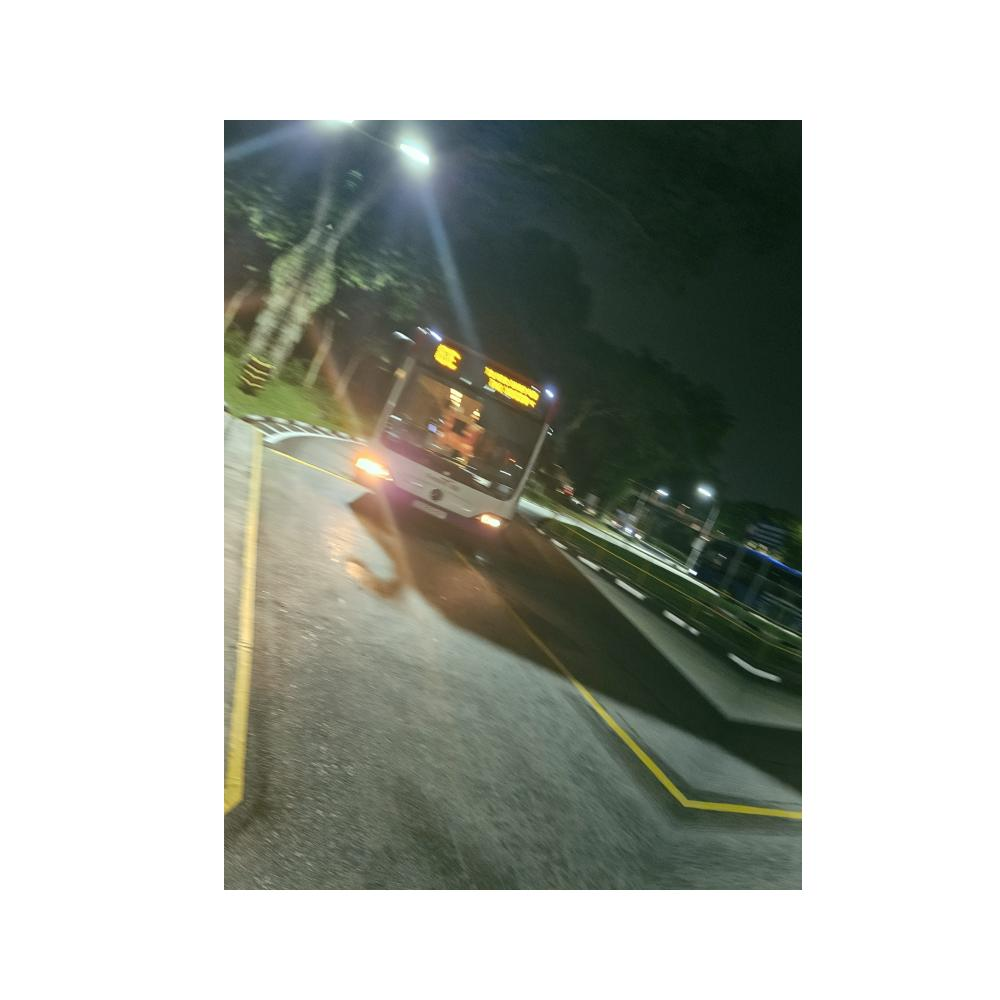bus: (349, 324, 554, 560)
